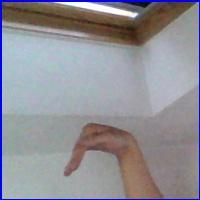del: (60, 121, 141, 183)
